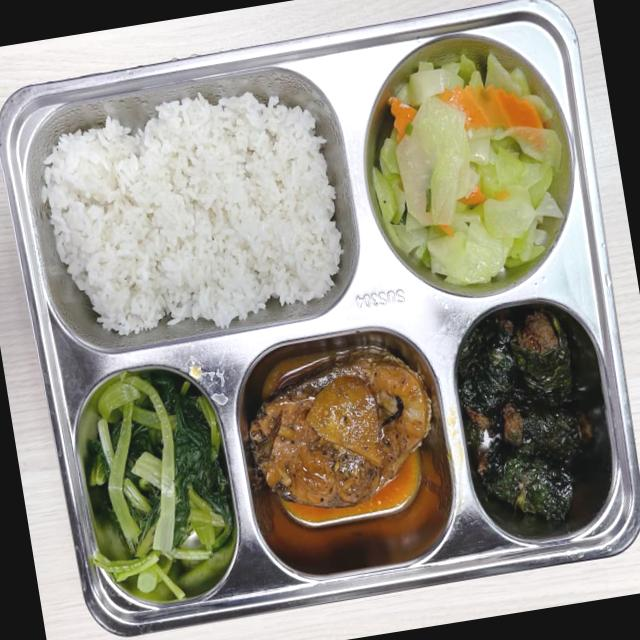ca kho: (250, 348, 432, 508)
com: (42, 92, 341, 334)
rau: (373, 55, 565, 284), (79, 371, 236, 602)
